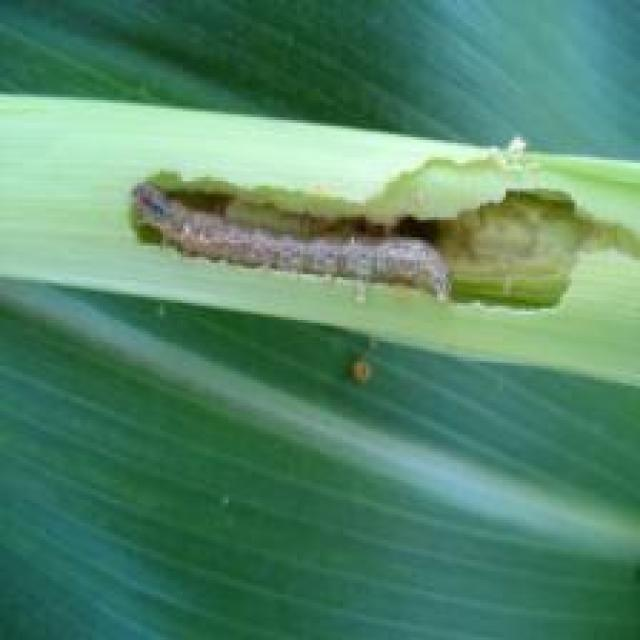Plaga: (108, 174, 483, 314)
